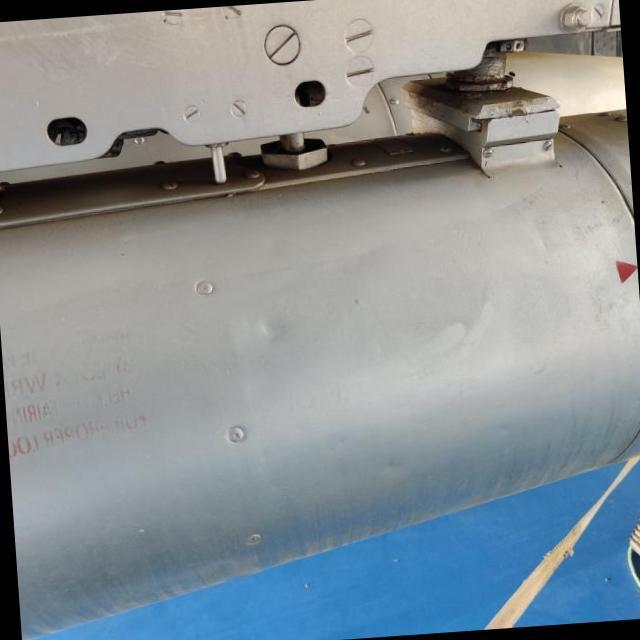Dent: (240, 302, 301, 356)
